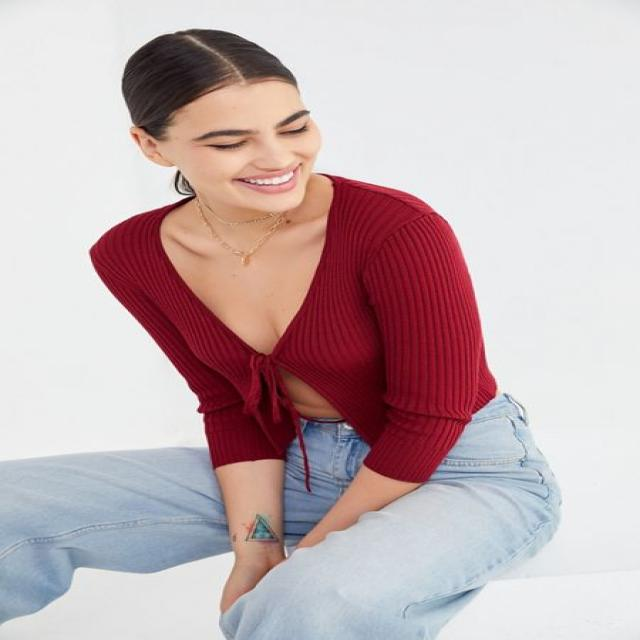human: (38, 16, 619, 640)
